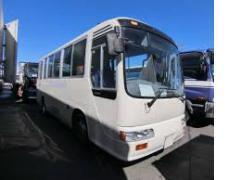bus: (37, 15, 190, 171)
